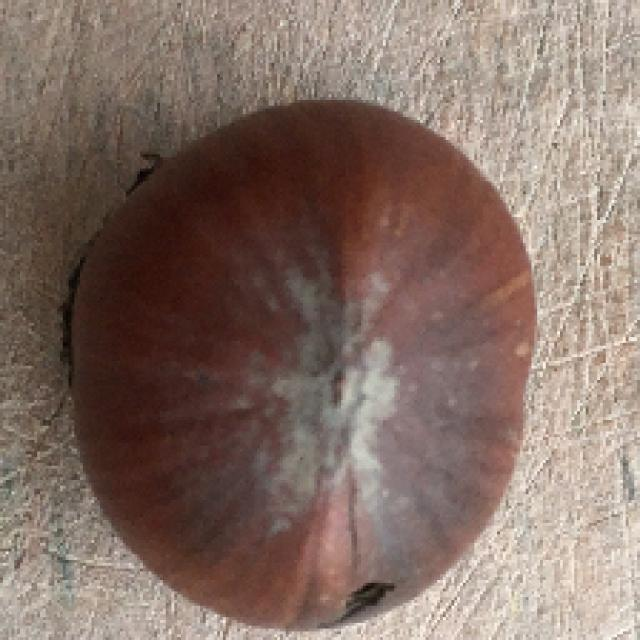damagedHazelnut: (57, 88, 549, 640)
